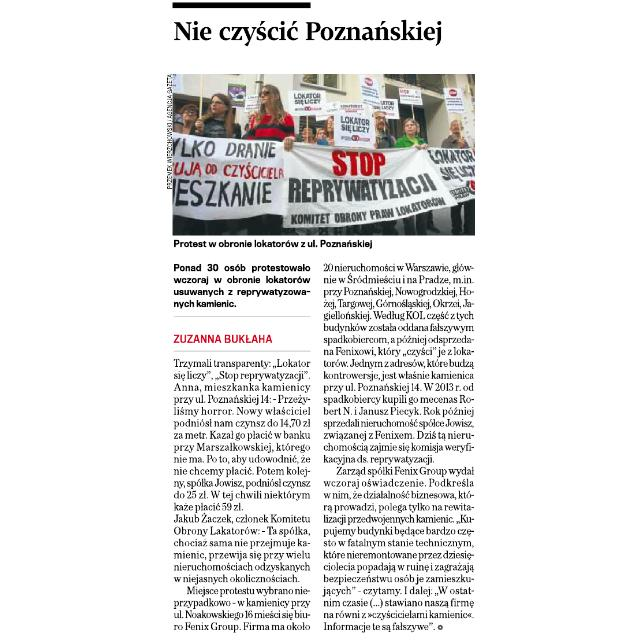author: (169, 326, 279, 349)
body: (320, 260, 478, 634), (168, 357, 318, 636)
caption: (171, 238, 379, 252)
image: (168, 70, 477, 238)
lead: (168, 258, 314, 312)
title: (169, 14, 449, 50)
